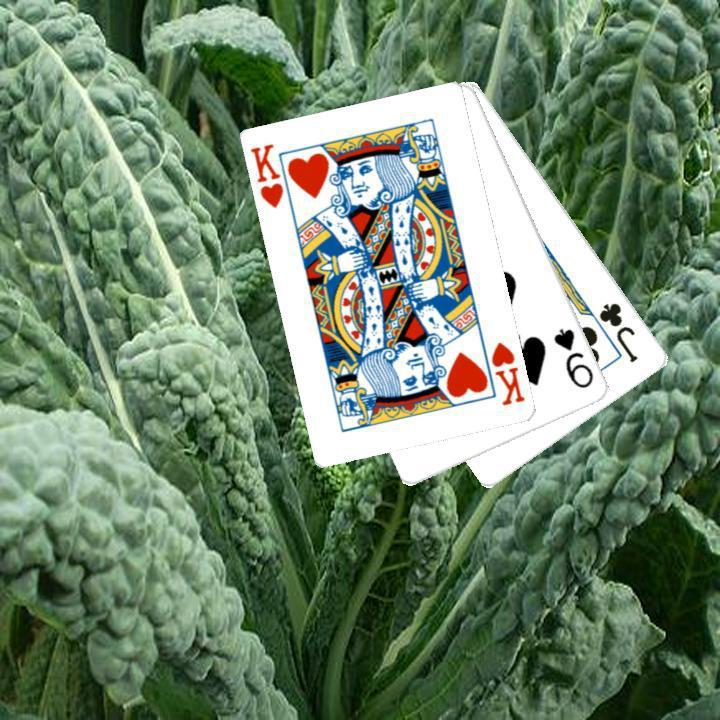9: (549, 323, 596, 391)
J: (595, 298, 641, 365)
K: (247, 139, 287, 211), (487, 338, 528, 408)
